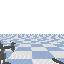drone: (0, 39, 16, 63)
